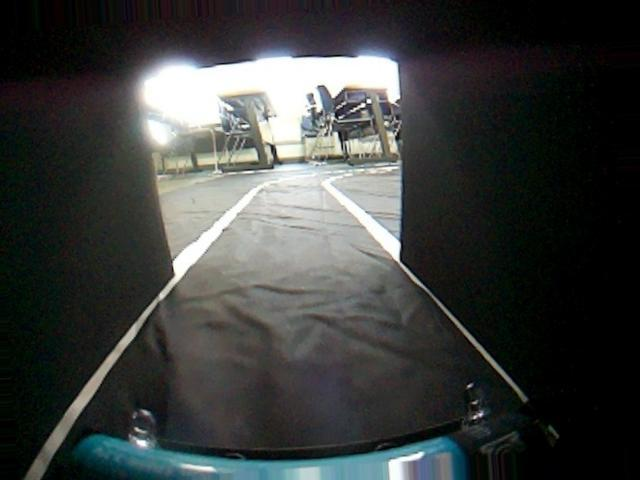straight: (4, 202, 623, 474)
